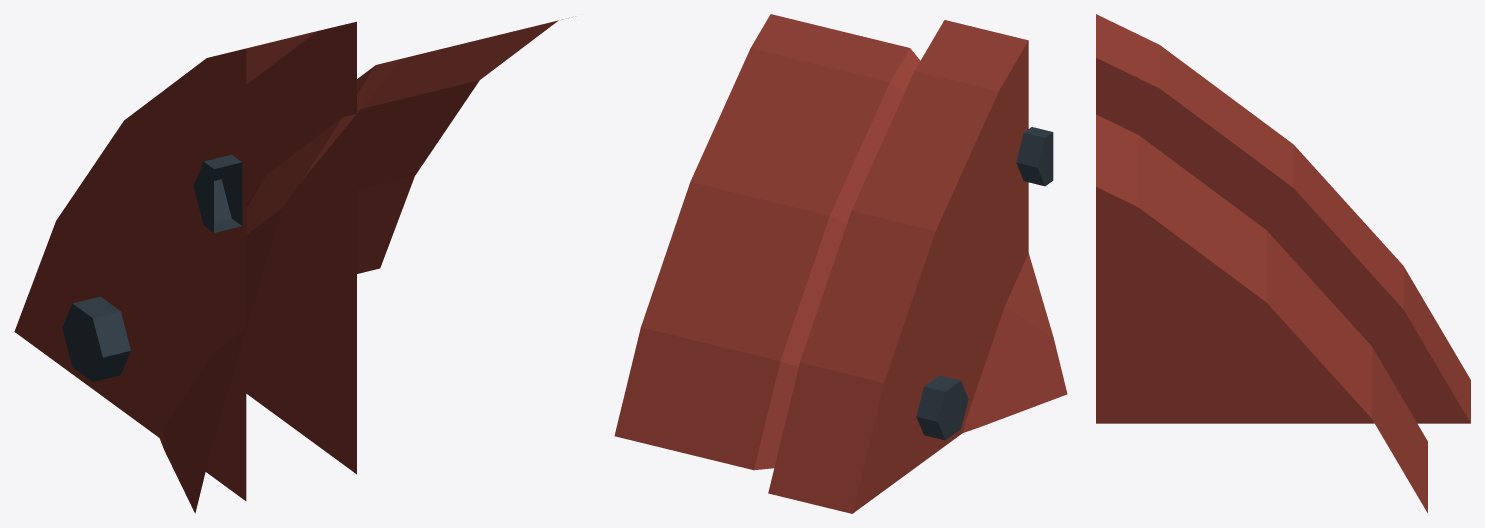
File: cell_55.obj
3 views of the same model, side by side, from view 1: azimuth 30°, elevation 25°; view 2: azimuth 150°, elevation 25°; view 3: azimuth 270°, elevation 25° (orthographic). The views are drawn at different scales.
Bounding box in the file's own units: 0.4267 × 0.4732 × 0.4392.
